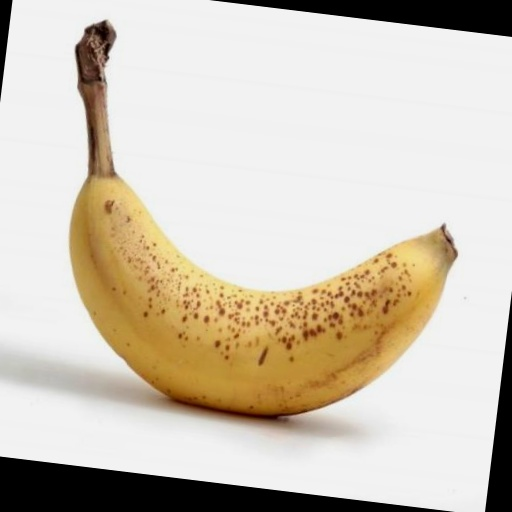fruit: (69, 21, 455, 415)
